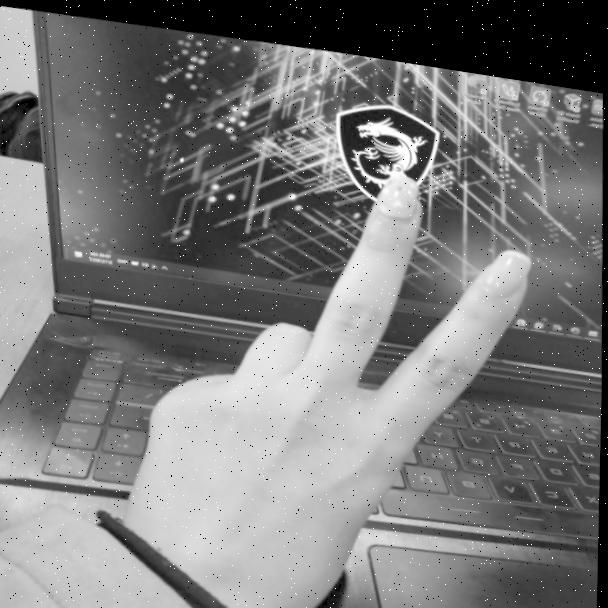two: (112, 113, 547, 600)
